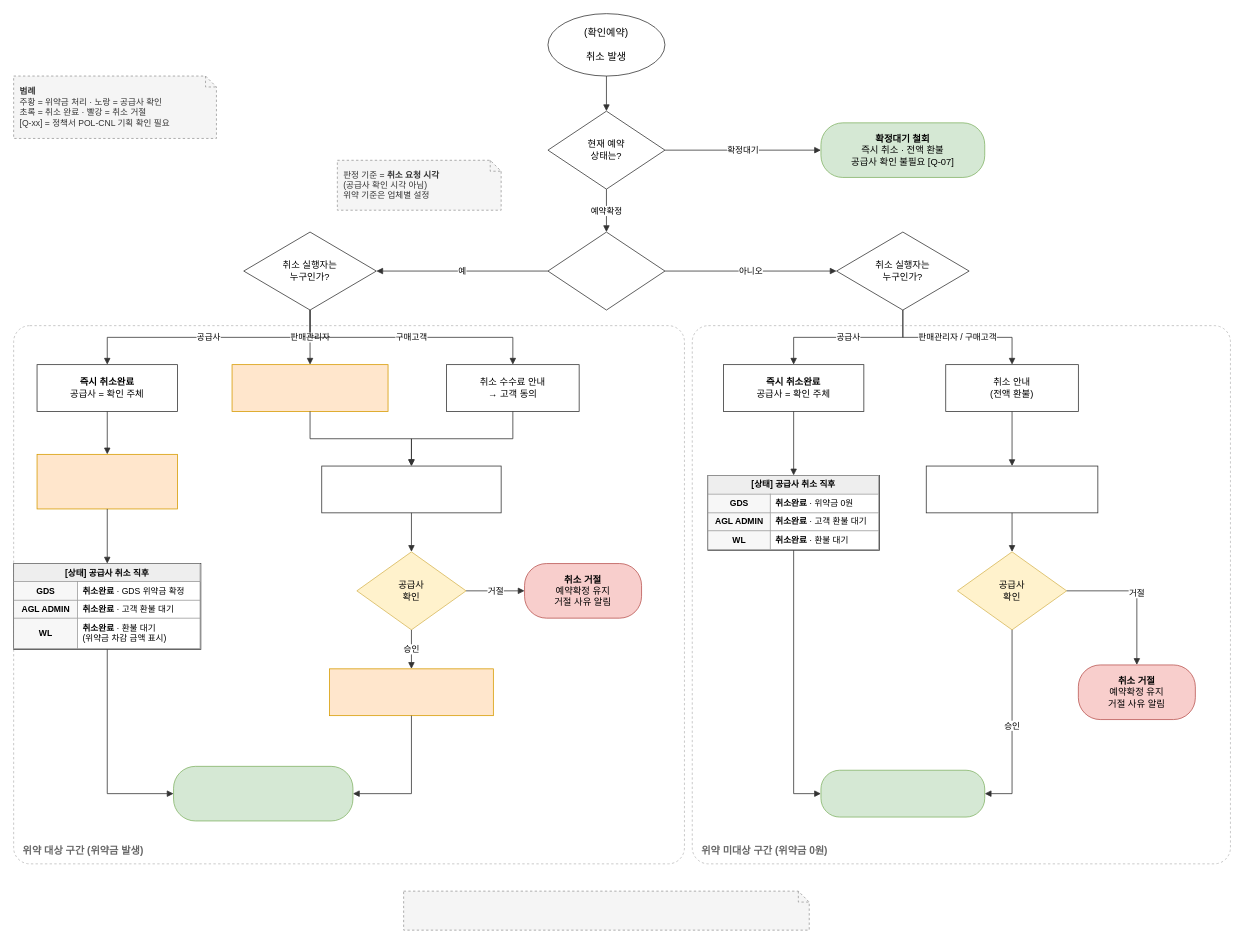
Image size: 1244x944. Some labels were removed from this diagram. Here are the shapes that lost their labels. From the top down, the box of each, then its label:
(547, 231, 665, 310): 위약 구간 인가?
(231, 364, 388, 411): 고객 위약금 확인·정정 가능 GDS 위약금 정정 불가
(36, 454, 177, 509): GDS 위약금 부여 또는 정정 (정정 사유 필수)
(321, 465, 501, 513): 상태: 취소요청 위약 판정·위약금 요청 시점 고정
(925, 465, 1098, 513): 상태: 취소요청 위약 판정 요청 시점 고정
(329, 668, 493, 716): 공급사가 GDS 위약금 그대로 승인 또는 정정
(173, 766, 353, 821): 취소완료 고객 위약금 차감 후 환불 판매자에 GDS 위약금 부과
(820, 769, 985, 817): 취소완료 위약금 0원 · 전액 환불
(403, 890, 809, 930): 다음 단계 → 환불 처리 Flow (별도) 고객 환불: TB / 개인 홈페이지(Seller) · 판매자 환급(B2B) [Q-23·Q-25]
